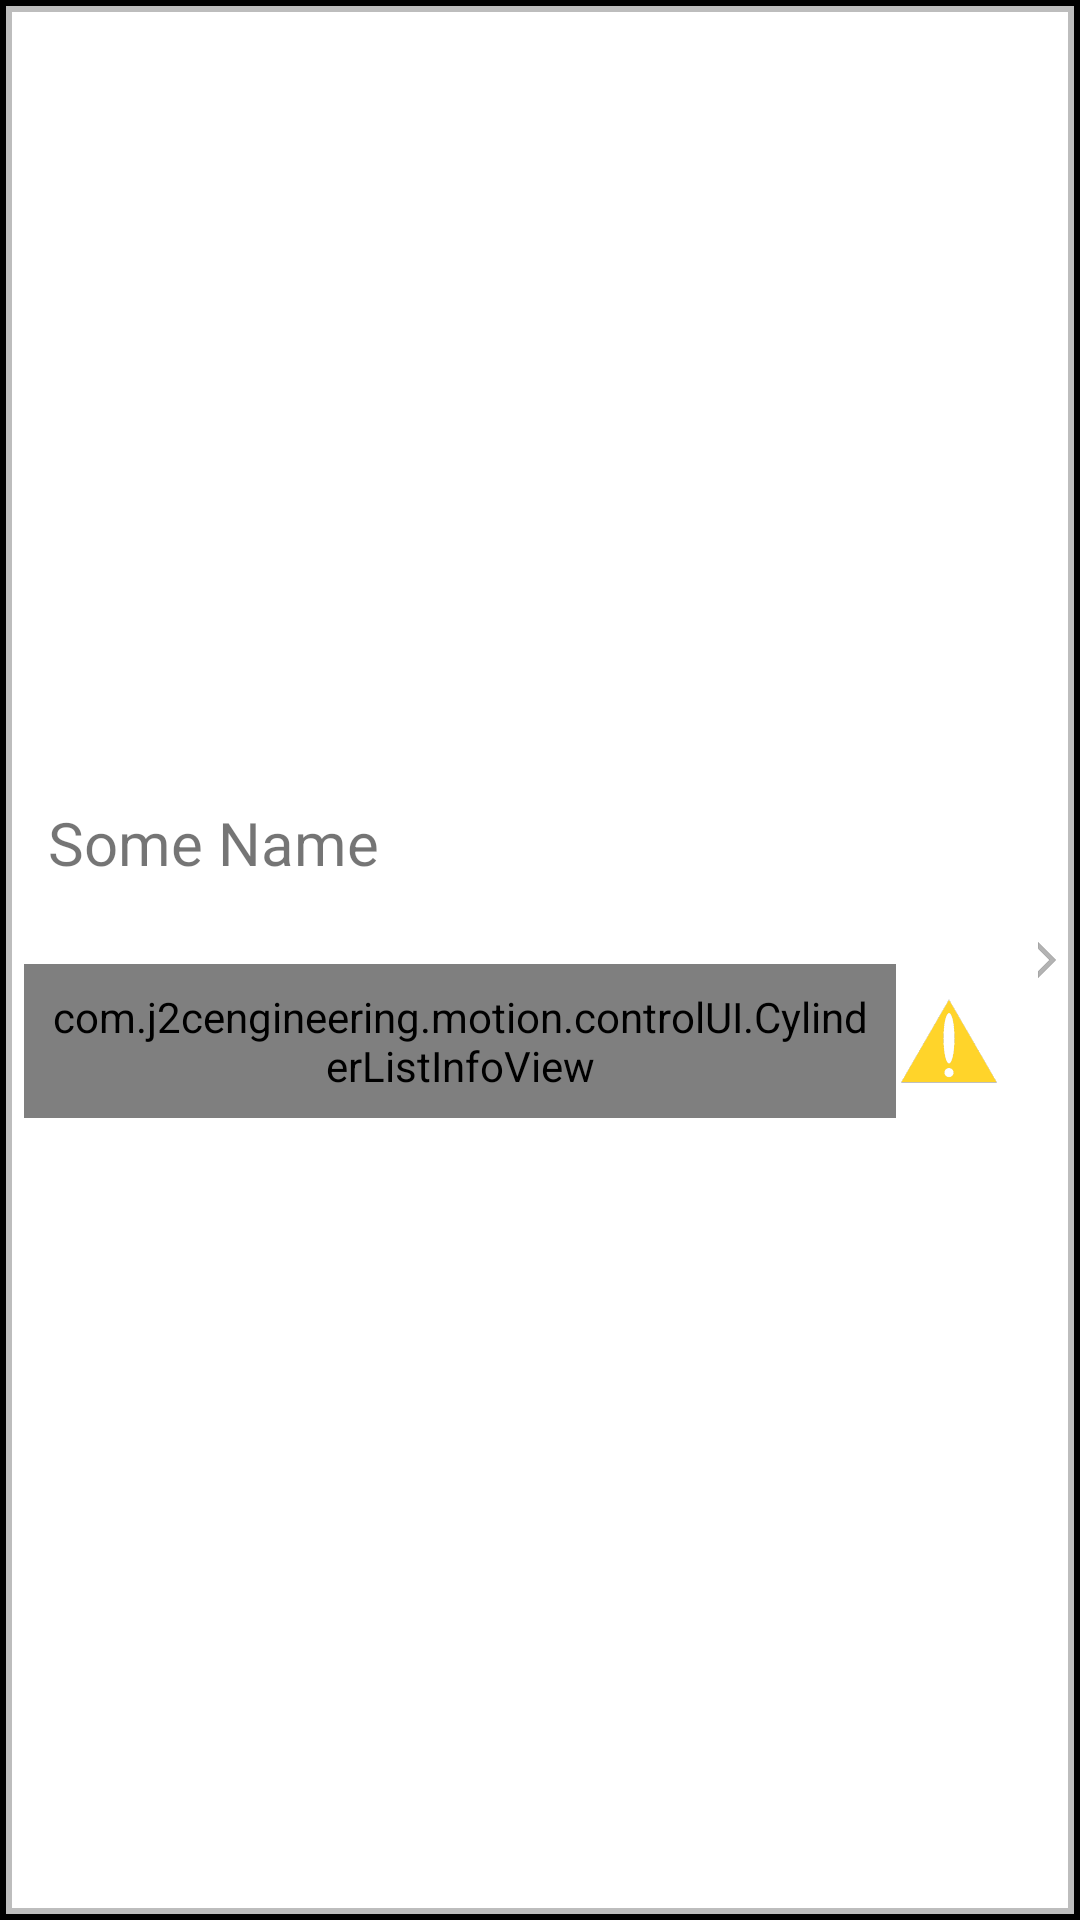

Icons on this 1080px x 1920px Android screen, each with its box as (x1,y1,x2,y2):
Cylinder Alerts Indicator: (901,1000,997,1083)
